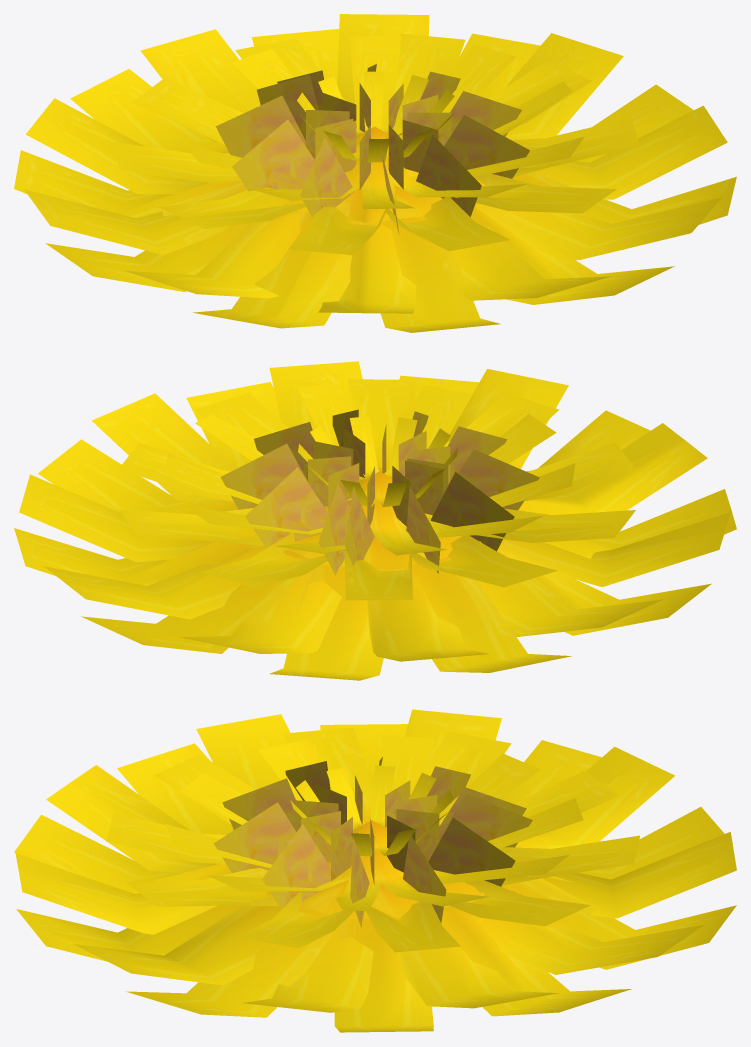
The model's file is Dandelion Planes.FBX.
The picture shows the model from 3 angles, top to bottom: view 1: azimuth 30°, elevation 25°; view 2: azimuth 150°, elevation 25°; view 3: azimuth 270°, elevation 25°; orthographic projection.
Parts seen in each view (by area): view 1: Object003; view 2: Object003; view 3: Object003.
Boxes of the visible parts, x1,y1,x2,y2 form: Object003: [14, 14, 736, 332]; Object003: [14, 361, 736, 680]; Object003: [14, 709, 736, 1032].
Bounding box in the file's own units: 99.7 × 20.21 × 98.74.
